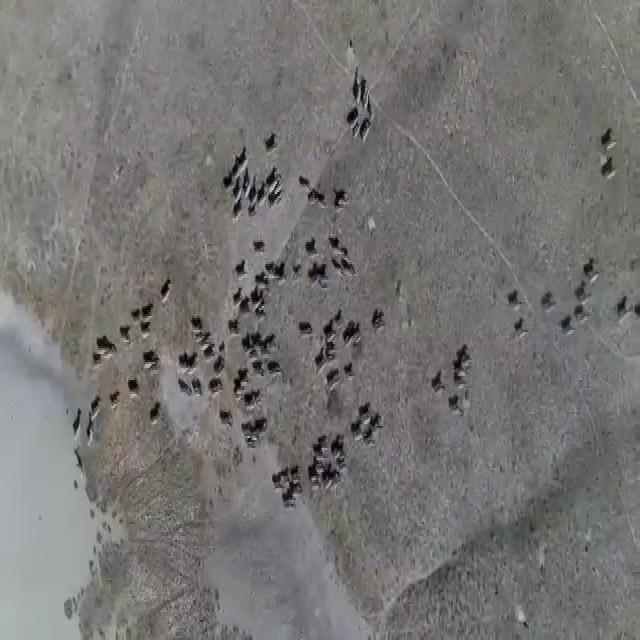Zebra: (279, 473, 304, 510), (328, 310, 360, 338), (134, 304, 158, 341), (187, 316, 213, 348), (614, 290, 632, 331), (248, 416, 271, 447), (336, 253, 357, 284), (135, 305, 156, 335), (90, 396, 107, 433), (452, 346, 470, 380), (257, 262, 275, 295), (304, 185, 330, 206), (313, 260, 332, 287), (97, 339, 122, 359), (317, 340, 342, 360), (598, 136, 624, 155), (450, 385, 473, 406), (148, 403, 164, 432), (72, 409, 86, 442), (365, 82, 375, 126), (230, 160, 251, 180), (598, 166, 620, 184), (264, 128, 282, 150), (338, 183, 350, 216), (356, 424, 370, 452), (565, 313, 575, 352), (351, 123, 373, 140), (331, 472, 343, 503), (120, 322, 133, 350), (268, 174, 282, 200), (236, 370, 248, 399), (226, 322, 243, 341), (572, 309, 596, 322), (222, 410, 234, 436), (588, 266, 602, 288), (578, 289, 596, 306), (371, 309, 383, 333), (183, 356, 199, 374), (270, 359, 286, 377), (294, 173, 312, 189), (433, 373, 442, 403), (354, 70, 360, 114), (162, 279, 174, 301), (253, 292, 265, 314), (213, 379, 228, 396), (327, 368, 342, 384), (179, 380, 193, 397), (314, 473, 324, 496), (511, 316, 530, 327), (510, 299, 524, 313), (543, 296, 555, 311), (303, 322, 314, 338), (110, 392, 120, 409), (247, 389, 260, 402), (372, 418, 384, 432), (318, 446, 326, 465), (234, 199, 241, 220), (127, 380, 139, 392), (234, 287, 243, 302), (131, 384, 144, 394), (196, 385, 203, 398), (151, 410, 160, 420), (239, 262, 244, 274), (142, 360, 161, 362)
